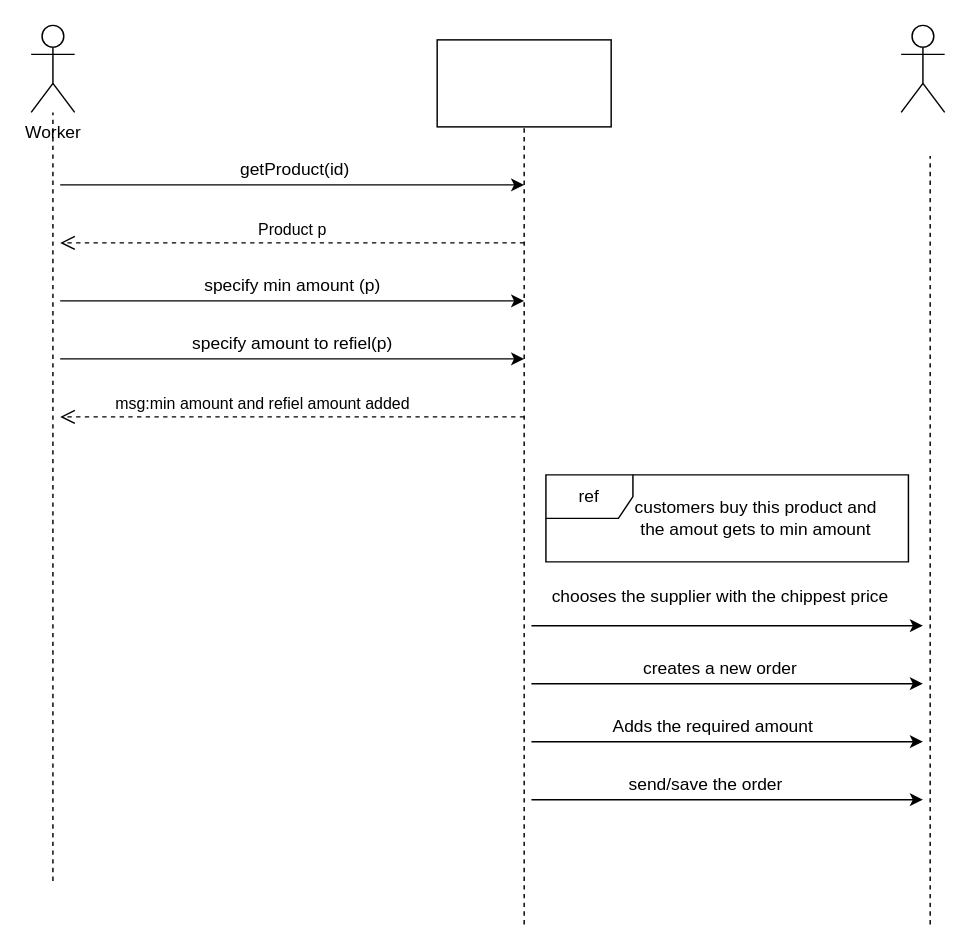
This 977x951 diagram has some shape labels left out. The shapes that lost their labels are listed below. From the top down, each one's centre as x and y in pixels, then its label:
(x=523, y=82): System
(x=922, y=68): supplier
